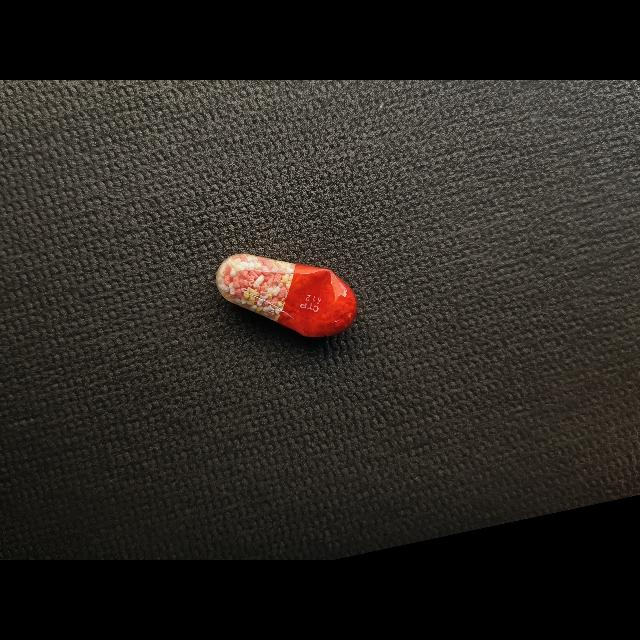Defective Capsule: (216, 254, 357, 337)
